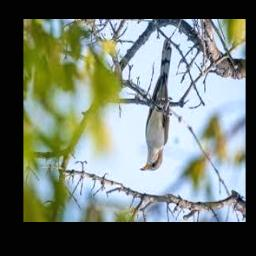Cuckoo: (140, 39, 172, 172)
